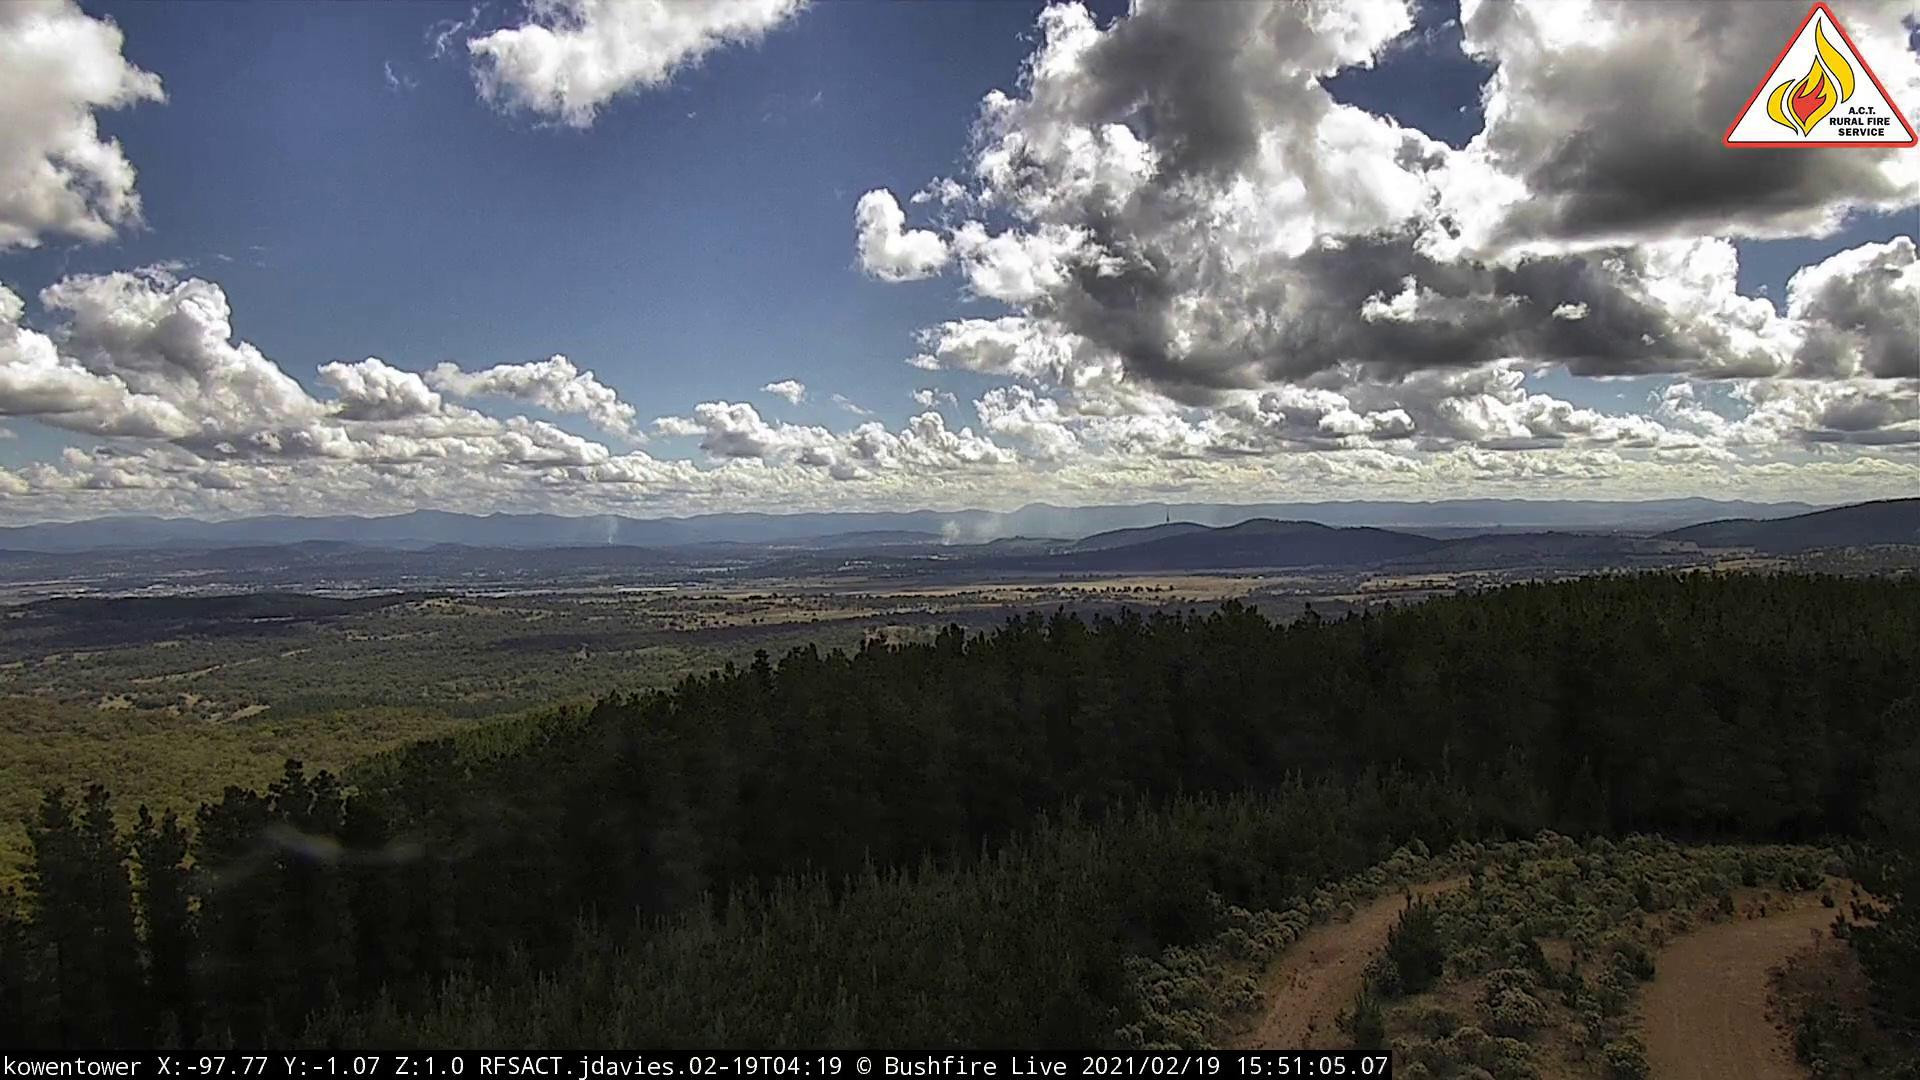Smoke: (934, 496, 1011, 553), (603, 524, 622, 551)
